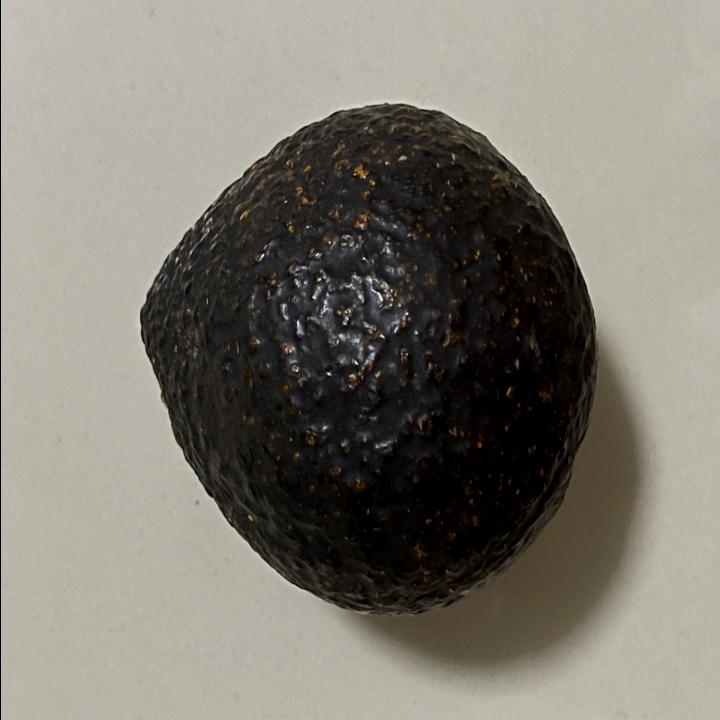Level2: (130, 94, 604, 624)
